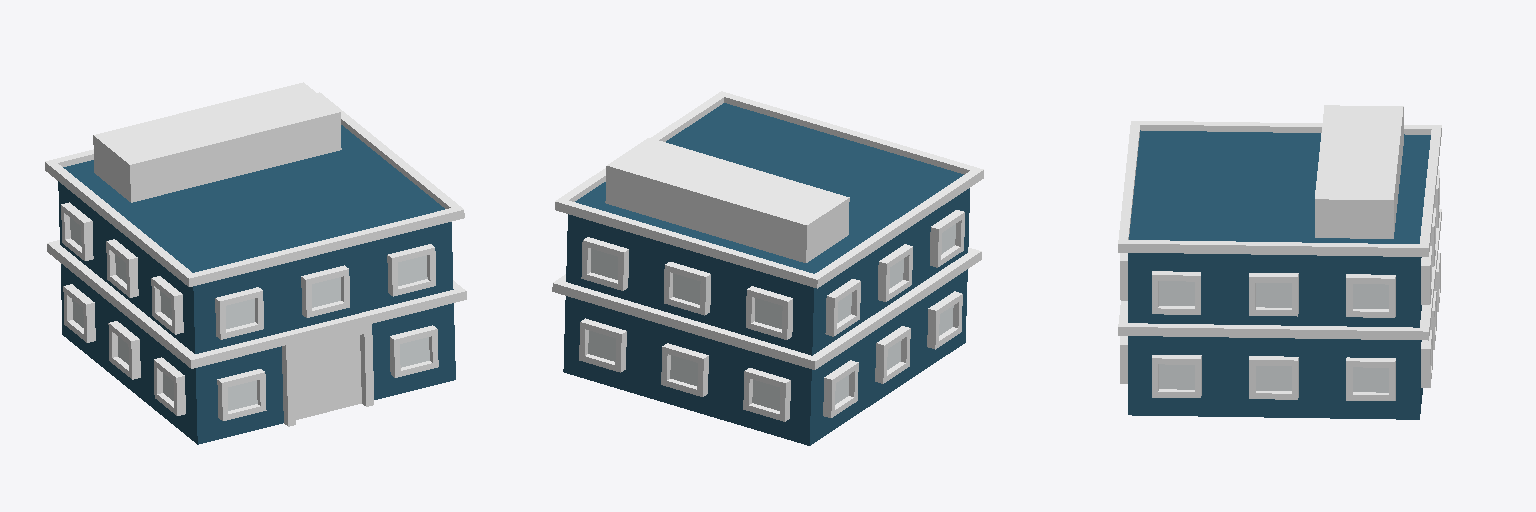
The model's file is 蓝灰房子.obj.
3 renders of one model, left to right at view 1: azimuth 30°, elevation 25°; view 2: azimuth 150°, elevation 25°; view 3: azimuth 270°, elevation 25°, orthographic.
Visible parts, largest first — view 1: 左三.1; view 2: 左三.1; view 3: 左三.1.
Part boxes in pixels (bbox=[...]): 左三.1: bbox=[45, 82, 466, 444]; 左三.1: bbox=[552, 91, 983, 445]; 左三.1: bbox=[1118, 105, 1441, 419].
Size of the model in its own units: 1249 by 898 by 1237.